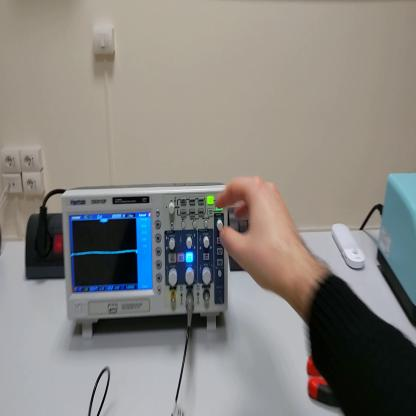hand: (215, 177, 303, 294)
oscilloscope: (61, 183, 230, 343)
socket: (25, 214, 66, 280)
welder station: (376, 172, 416, 328)
